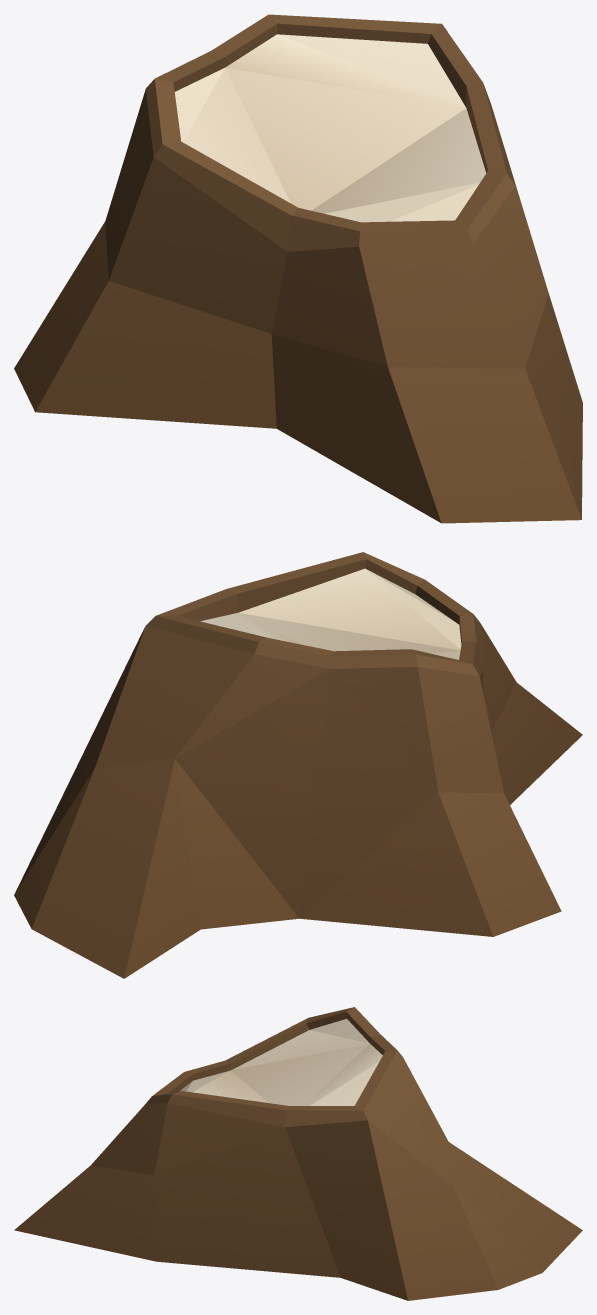
Rendered from stump_beech.fbx.
The picture shows the model from 3 angles, top to bottom: view 1: azimuth 30°, elevation 25°; view 2: azimuth 150°, elevation 25°; view 3: azimuth 270°, elevation 25°; orthographic projection. The views are drawn at different scales.
Parts seen in each view (by area): view 1: stump_beech; view 2: stump_beech; view 3: stump_beech.
Part boxes in pixels (x1,y1,x2,y2): stump_beech: (14, 14, 582, 523); stump_beech: (14, 552, 582, 978); stump_beech: (14, 1007, 582, 1300).
Size of the model in its own units: 1.39 by 0.7106 by 2.06.
1 material, 1 textured.
